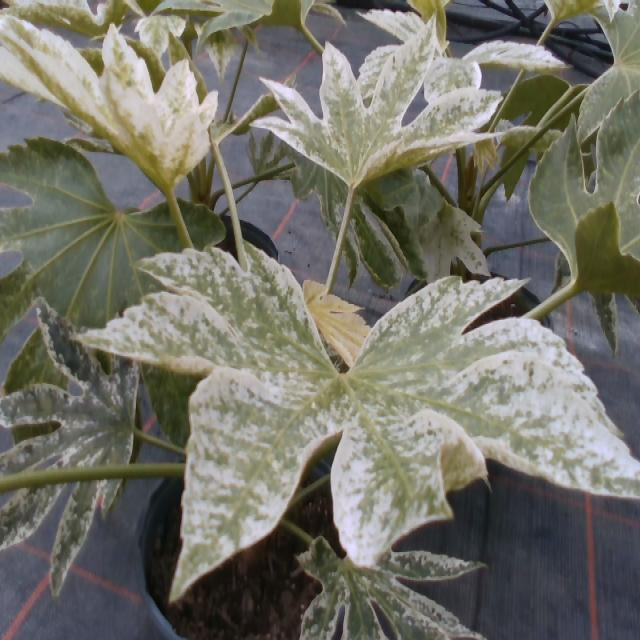Fatsia-japonica: (83, 233, 640, 556), (0, 288, 163, 608), (3, 130, 242, 337), (1, 6, 234, 206), (251, 40, 501, 196), (533, 64, 640, 309), (356, 0, 552, 119), (282, 542, 494, 640), (568, 4, 640, 154), (152, 2, 344, 54), (400, 195, 497, 294), (296, 267, 373, 372)
